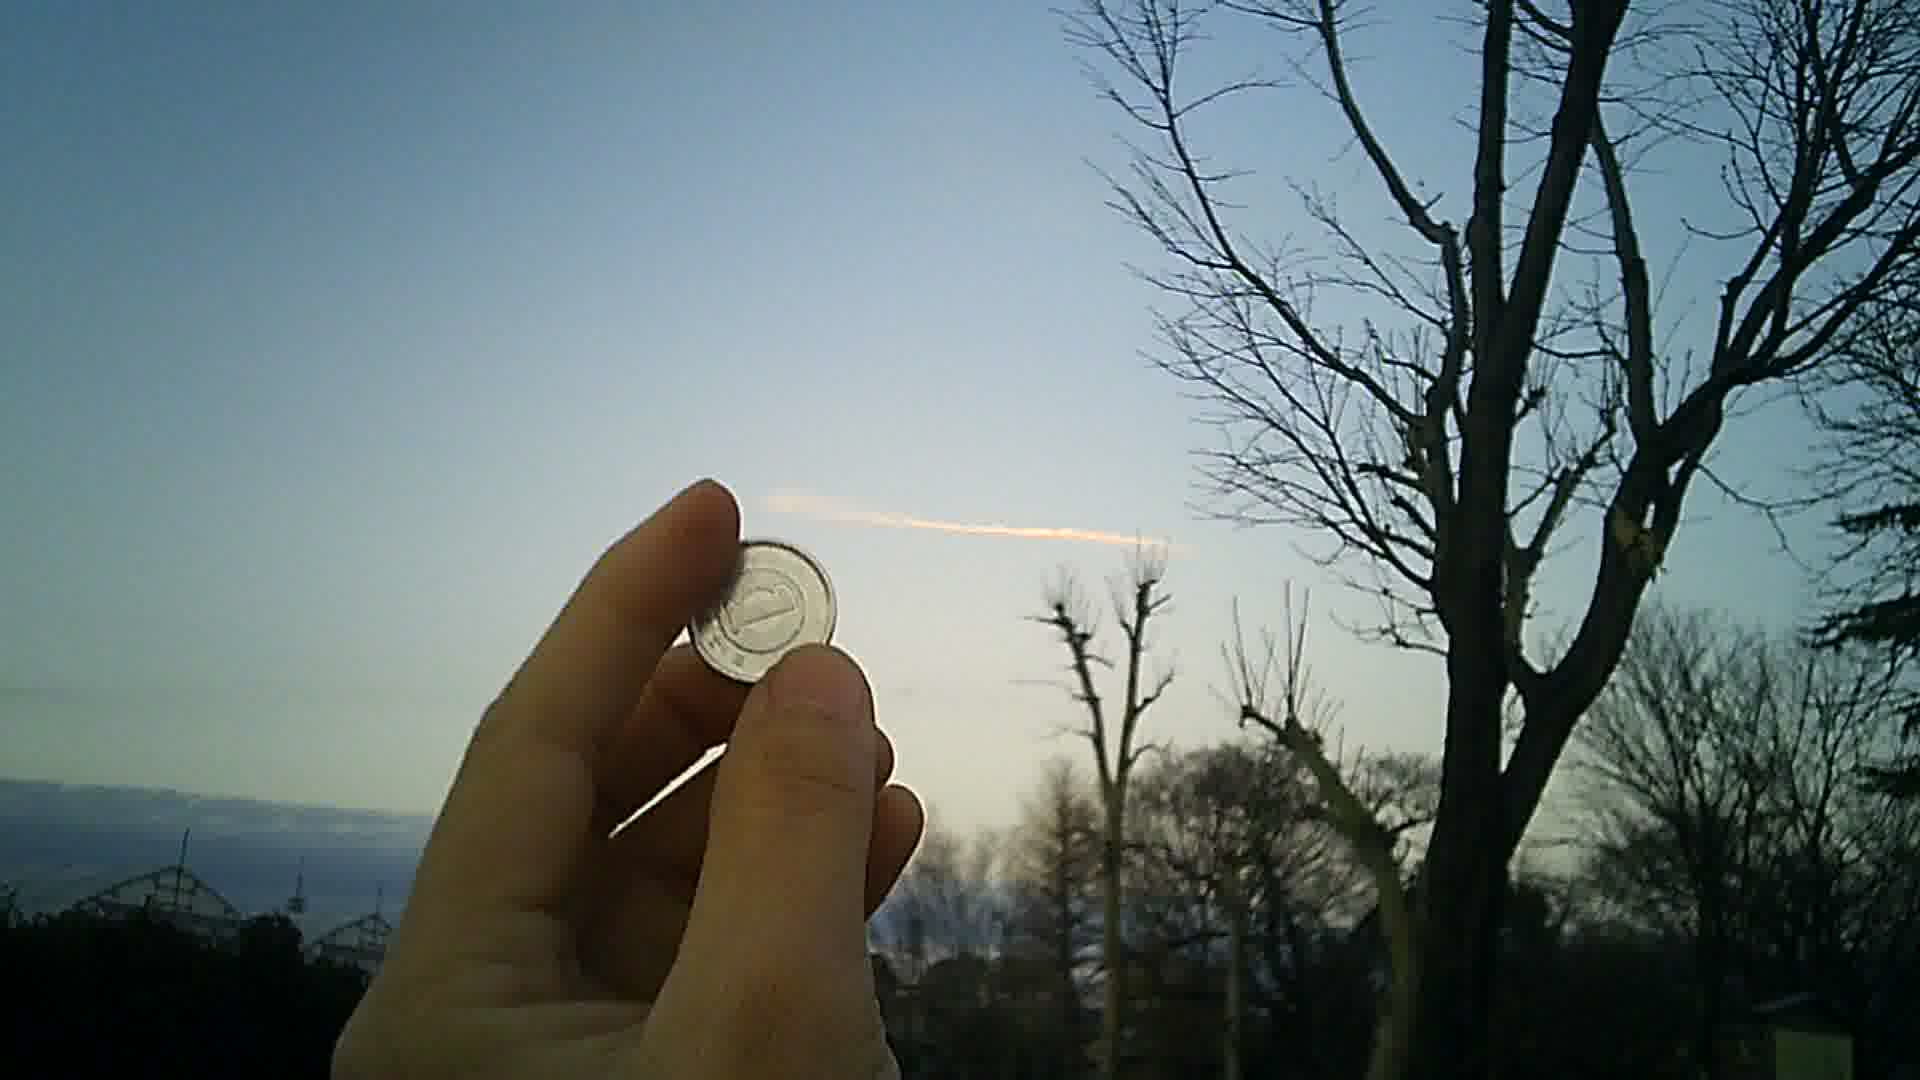1 Yen: (673, 545, 855, 684)
